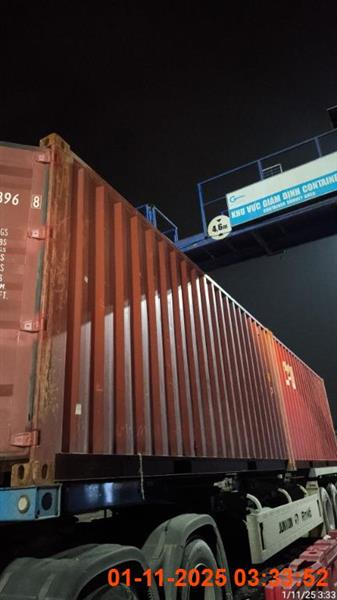broken: (0, 133, 335, 599), (1, 133, 336, 598)
